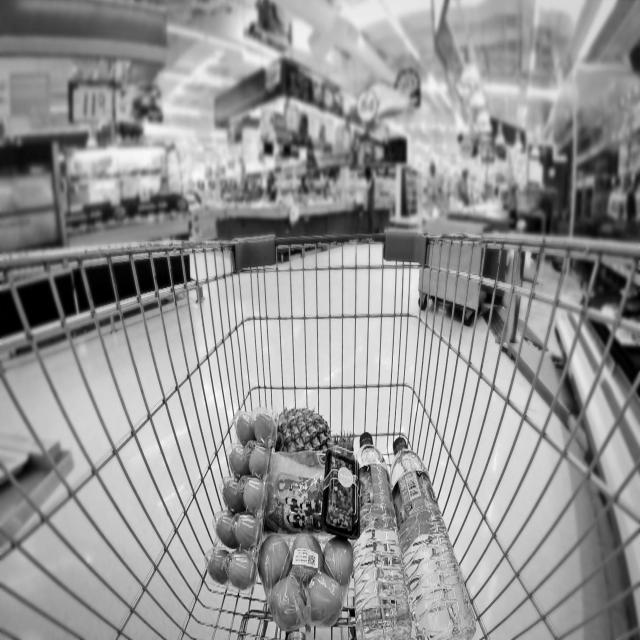dua: (274, 399, 336, 449)
tao: (256, 532, 357, 626)
trung: (208, 398, 275, 596)
